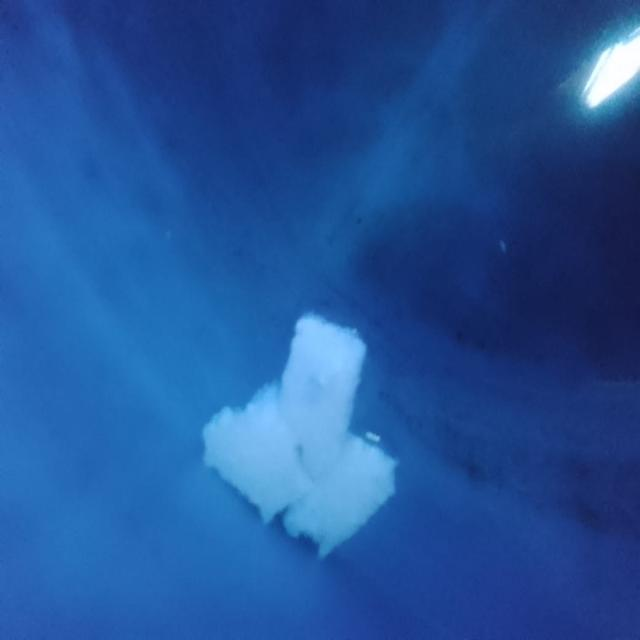litter: (198, 292, 402, 552)
